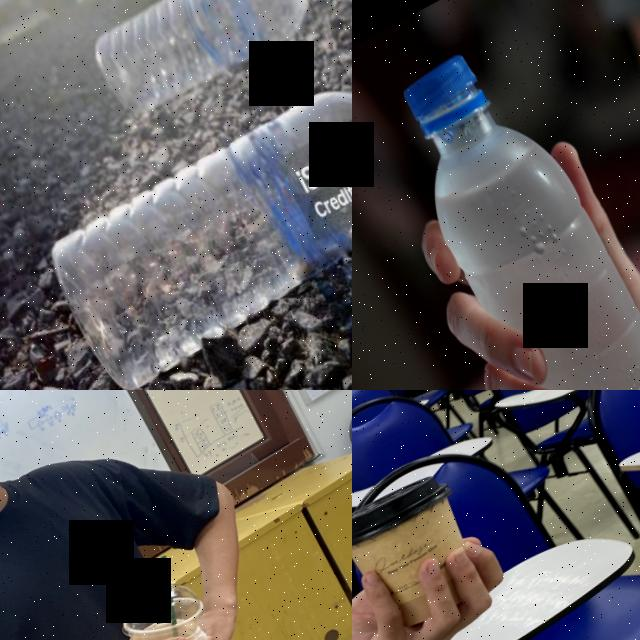bottle: (30, 50, 352, 390), (365, 27, 640, 390), (86, 0, 349, 128)
cup: (352, 465, 498, 640), (94, 569, 241, 640)
